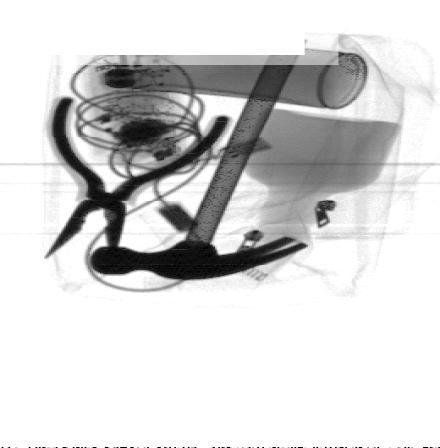Hammer: (88, 36, 310, 282)
Pliers: (43, 92, 234, 258)
